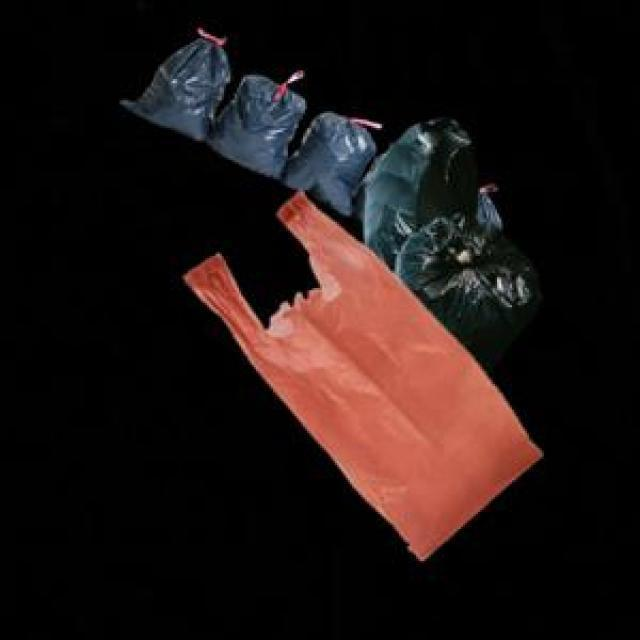miscellaneous trash: (117, 34, 497, 226), (361, 115, 538, 371)
